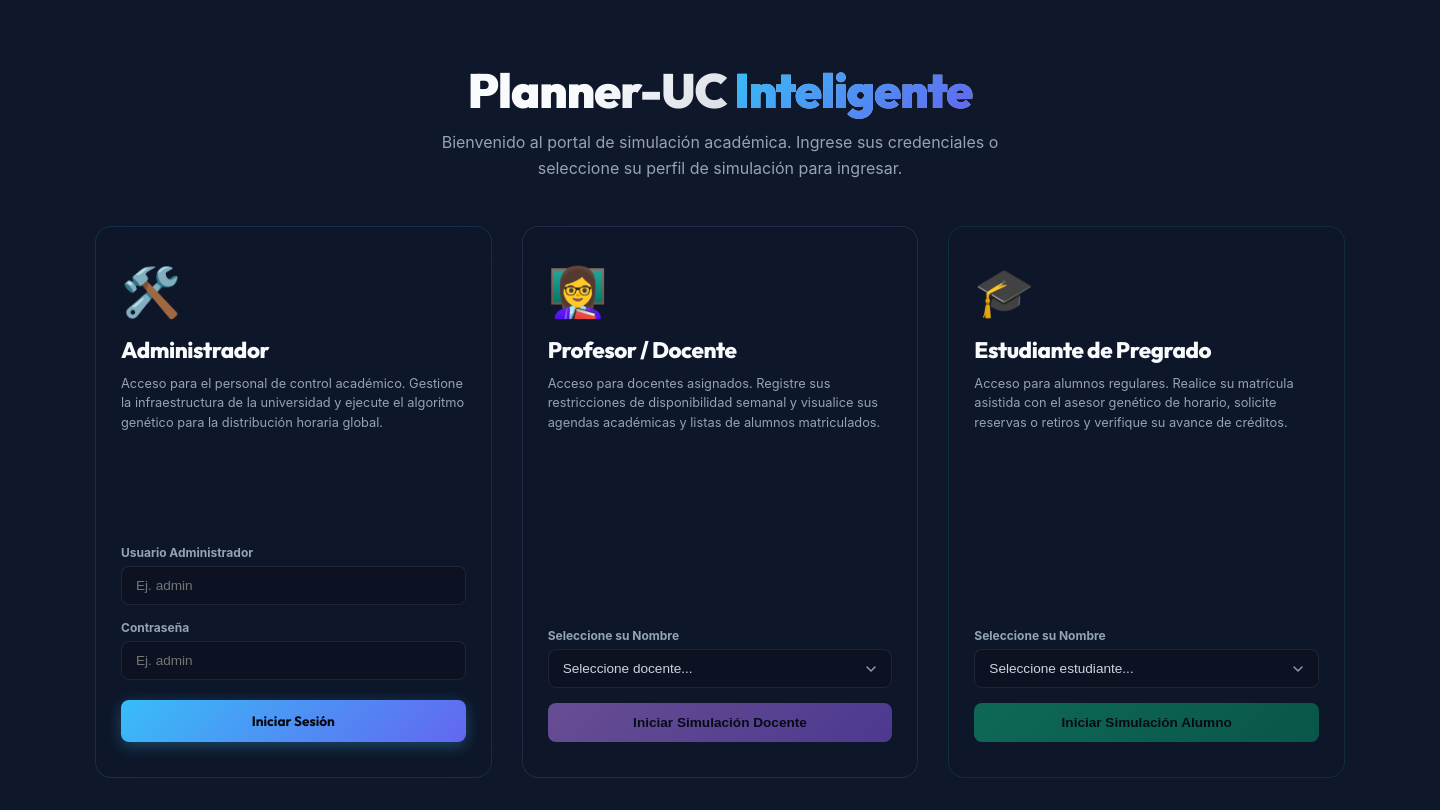
Pruebas de Integración Frontend (RTL + MSW) › 3. Acceso no autorizado: estudiante deudor ingresa y la UI muestra advertencia de deudas pendientes
The width and height of the screenshot is (1440, 810).
Select "Estudiante Deudor" in the dropdown with test id "student-select" at (1147, 669), box [974, 649, 1319, 688]
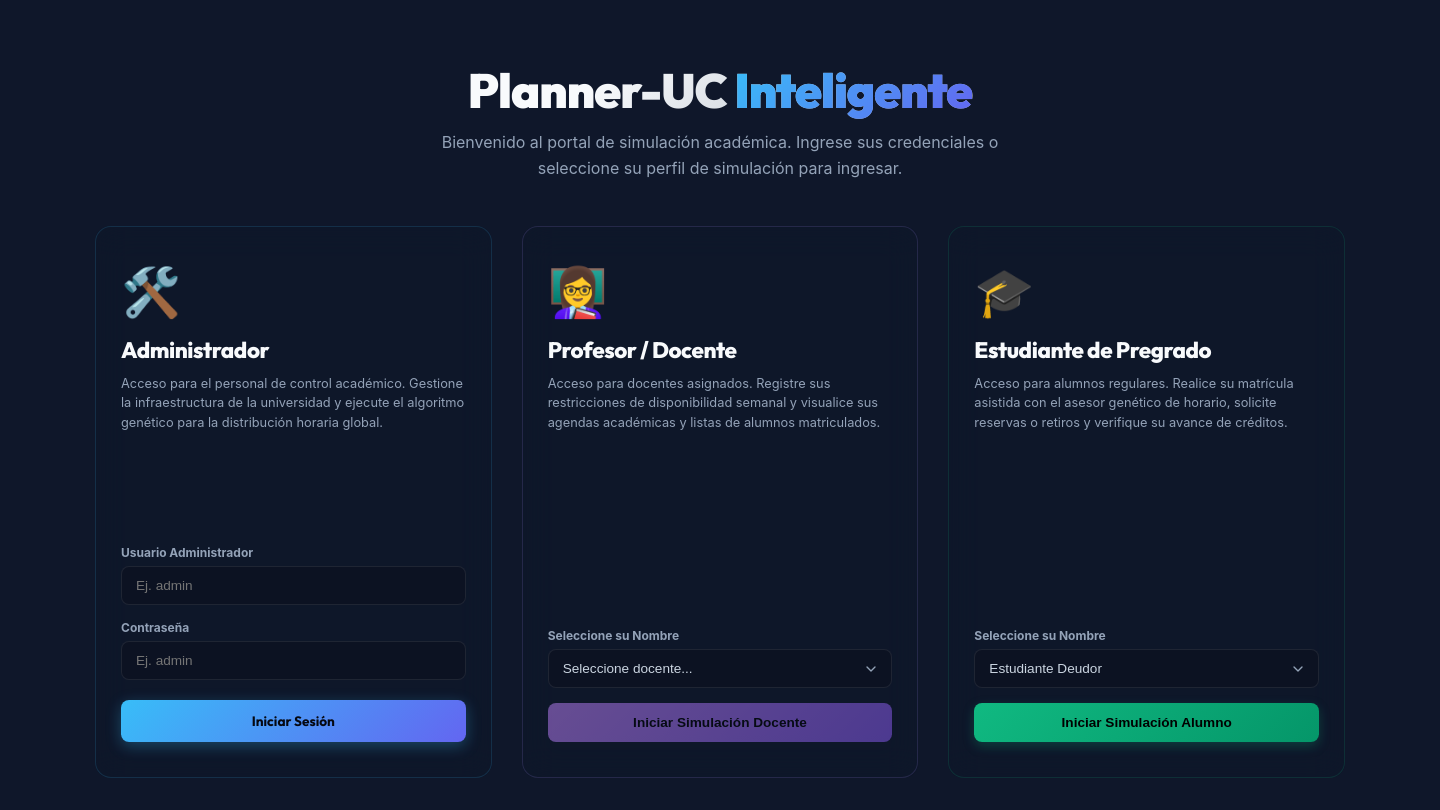
Click the button with test id "student-login-button".
click(1147, 723)  # box [974, 703, 1319, 742]
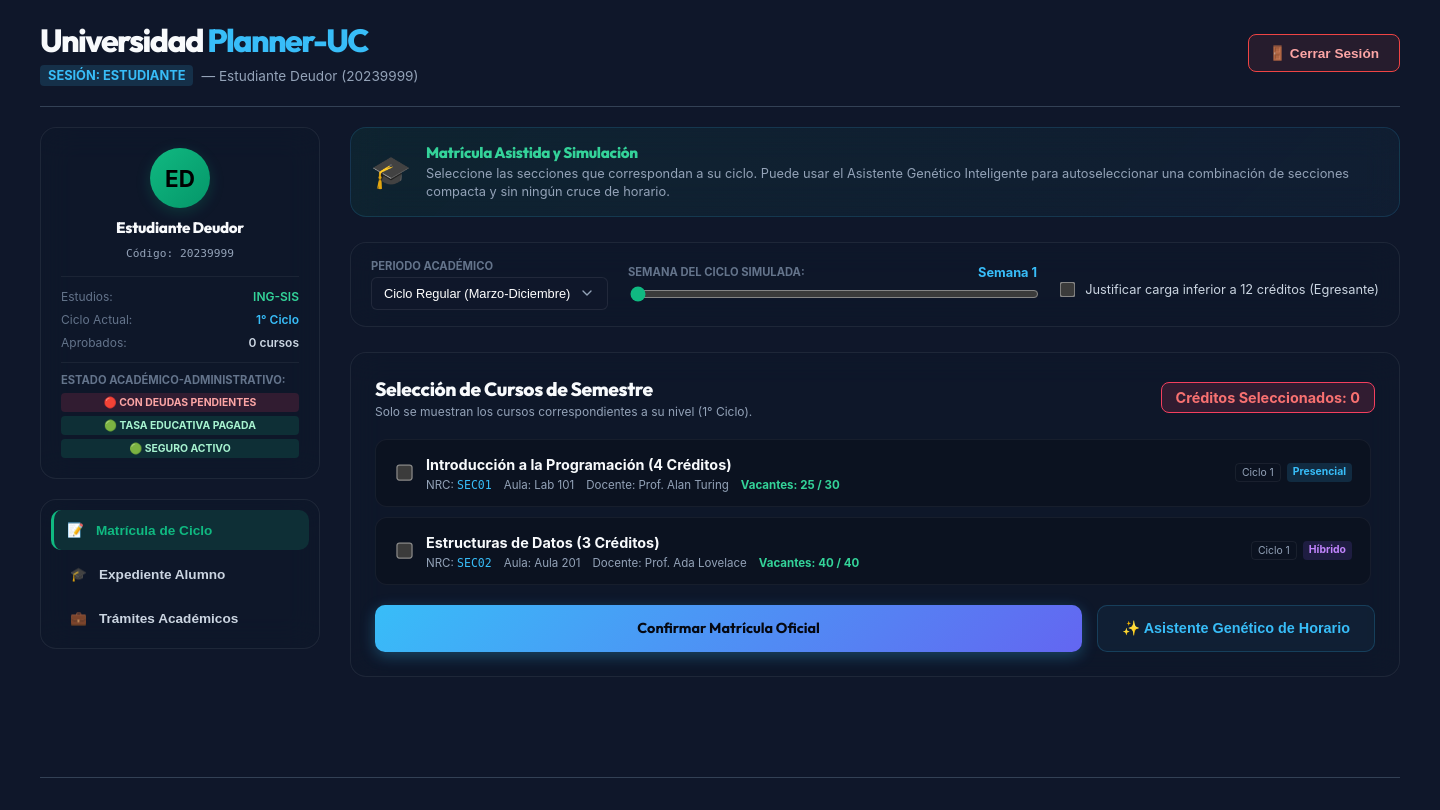
Check: the text "Expediente Alumno" is shown, box [99, 566, 225, 582]
Check: the text "🔴 CON DEUDAS PENDIENTES" is shown, box [61, 393, 299, 412]
